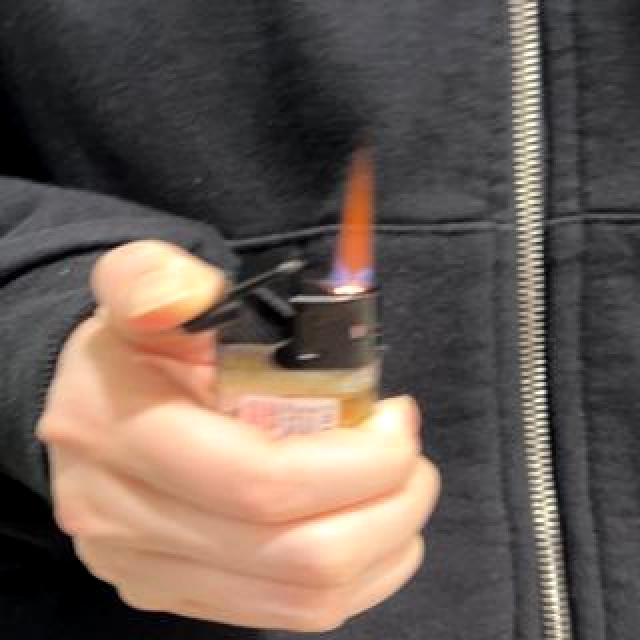fire: (323, 154, 387, 286)
